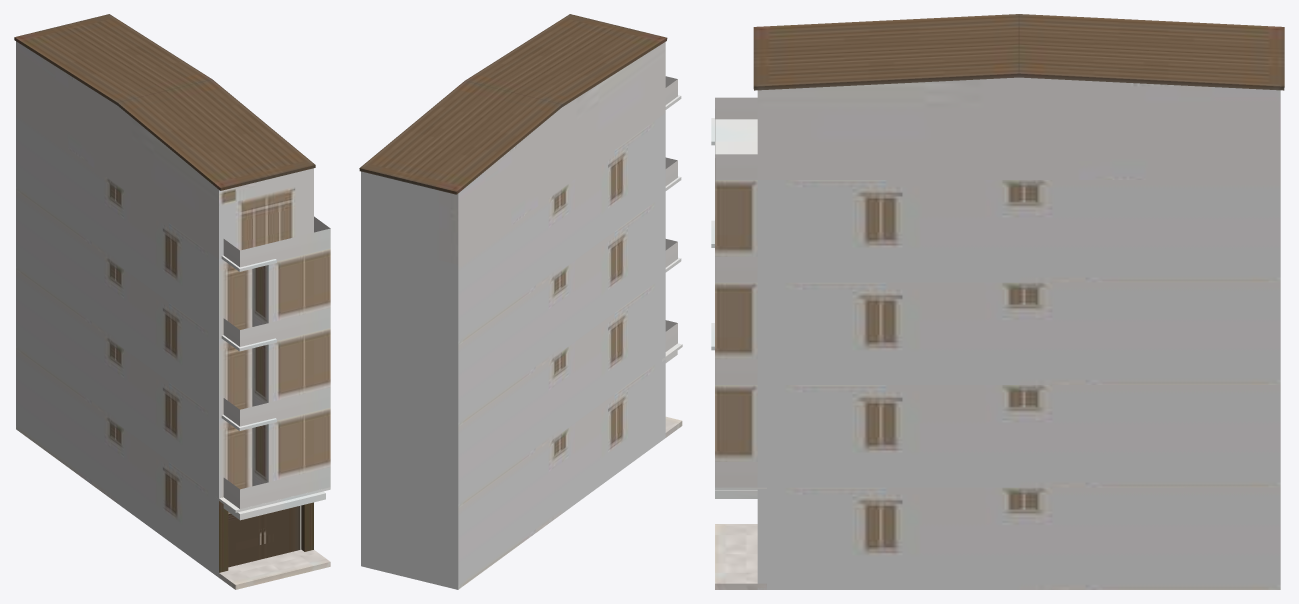
3 views of the same model, side by side, from view 1: azimuth 30°, elevation 25°; view 2: azimuth 150°, elevation 25°; view 3: azimuth 270°, elevation 25° (orthographic). The views are drawn at different scales.
Visible parts, largest first — view 1: 594b9b33cbc4876d74b5d184.001; view 2: 594b9b33cbc4876d74b5d184.001; view 3: 594b9b33cbc4876d74b5d184.001.
Boxes of the visible parts, bbox=[...] form: 594b9b33cbc4876d74b5d184.001: bbox=[14, 14, 330, 589]; 594b9b33cbc4876d74b5d184.001: bbox=[359, 14, 682, 589]; 594b9b33cbc4876d74b5d184.001: bbox=[711, 14, 1284, 589].
Bounding box in the file's own units: 5 × 20.15 × 20.27.
Materials: 1 (1 with a texture image).
